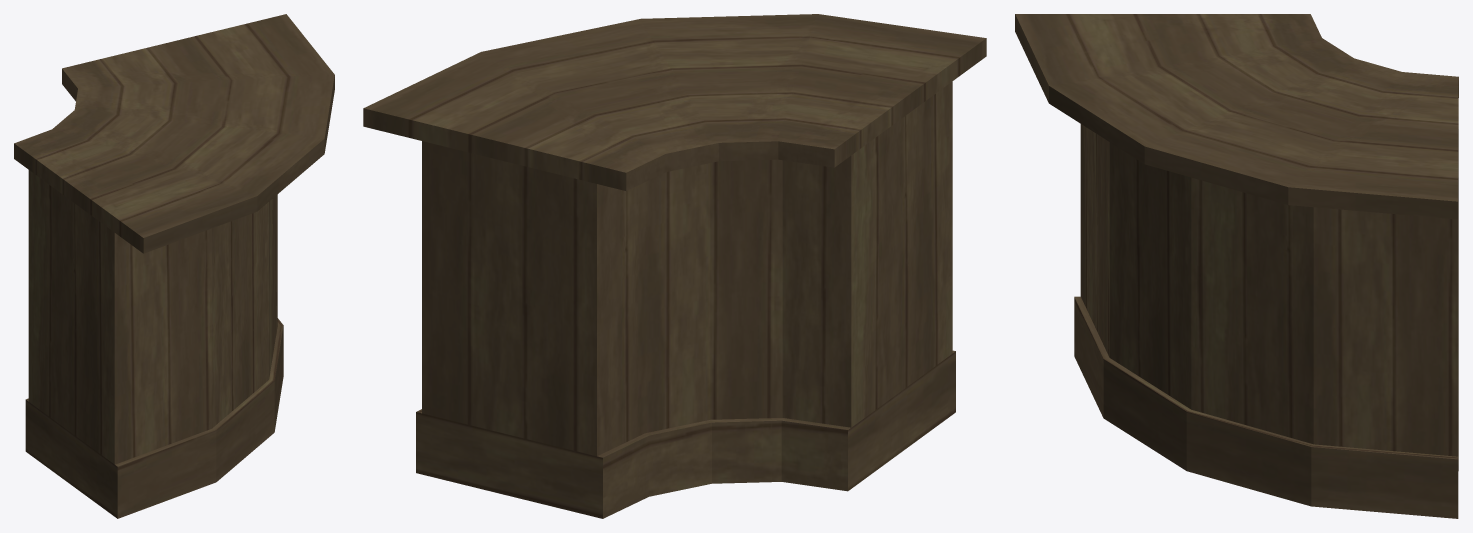
The model's file is counter_BR.glb.
3 renders of one model, left to right at view 1: azimuth 30°, elevation 25°; view 2: azimuth 150°, elevation 25°; view 3: azimuth 270°, elevation 25°, orthographic. The views are drawn at different scales.
Visible parts, largest first — view 1: counter_BR; view 2: counter_BR; view 3: counter_BR.
Part boxes in pixels (x1,y1,x2,y2): counter_BR: [14, 14, 334, 518]; counter_BR: [363, 14, 986, 518]; counter_BR: [1015, 14, 1458, 518].
Size of the model in its own units: 1.35 by 1.15 by 1.35.
Materials: 1 (1 with a texture image).
